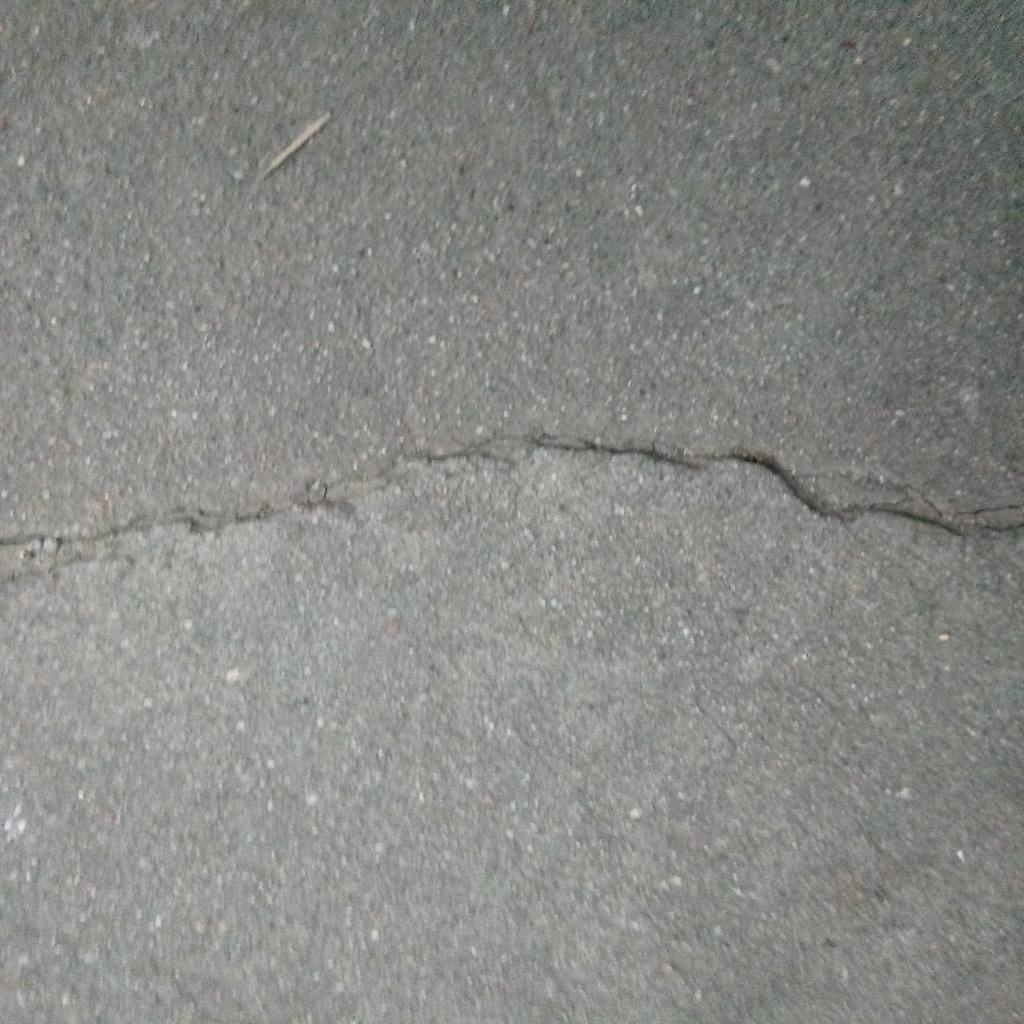Crack: (1, 430, 1024, 590)
